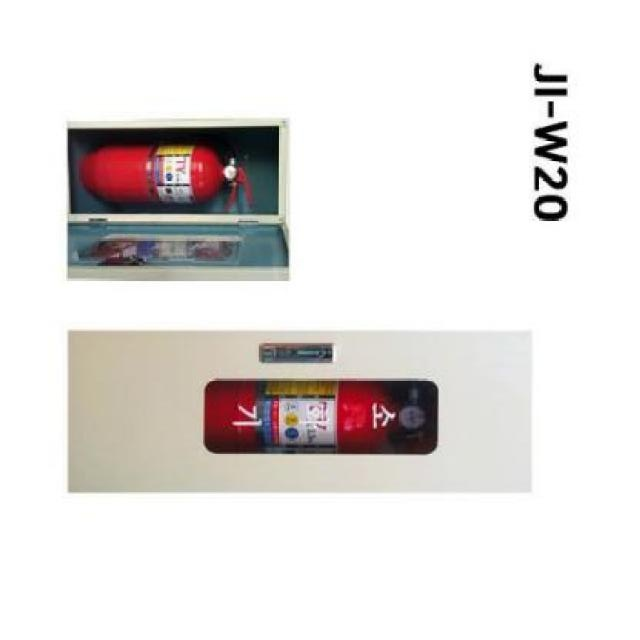fire extinguisher: (204, 379, 433, 455), (78, 145, 254, 212)
